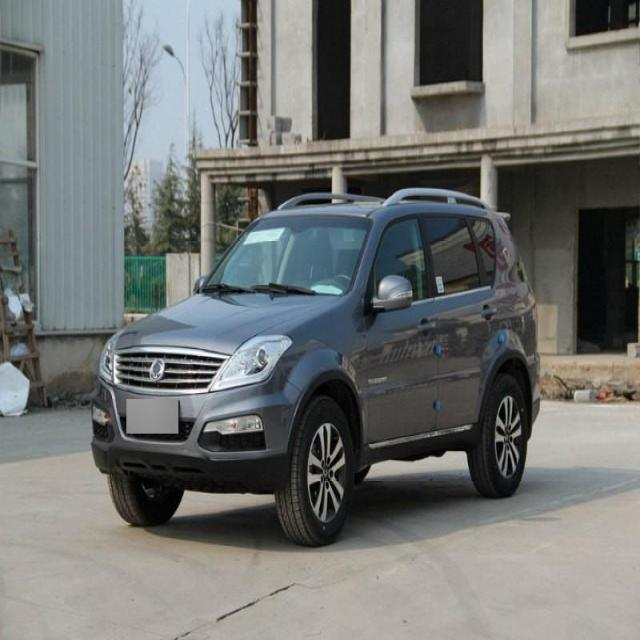door: (422, 212, 498, 428)
front_bumper: (91, 374, 303, 484)
front_glass: (204, 214, 372, 292)
front_left_side_door: (363, 211, 439, 449)
front_left_side_light: (209, 332, 291, 396)
front_left_side_mirror: (370, 274, 415, 313)
front_right_side_light: (100, 336, 118, 385)
wheel: (284, 399, 354, 546), (472, 376, 526, 496), (109, 472, 183, 525)
